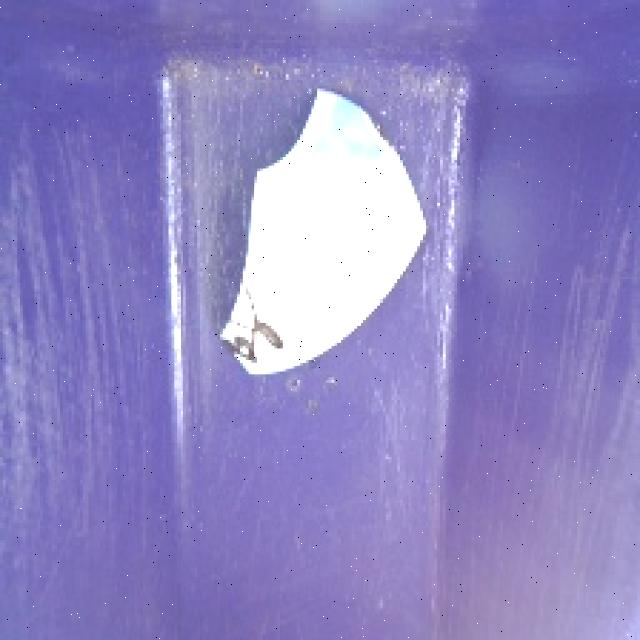china: (215, 80, 435, 384)
